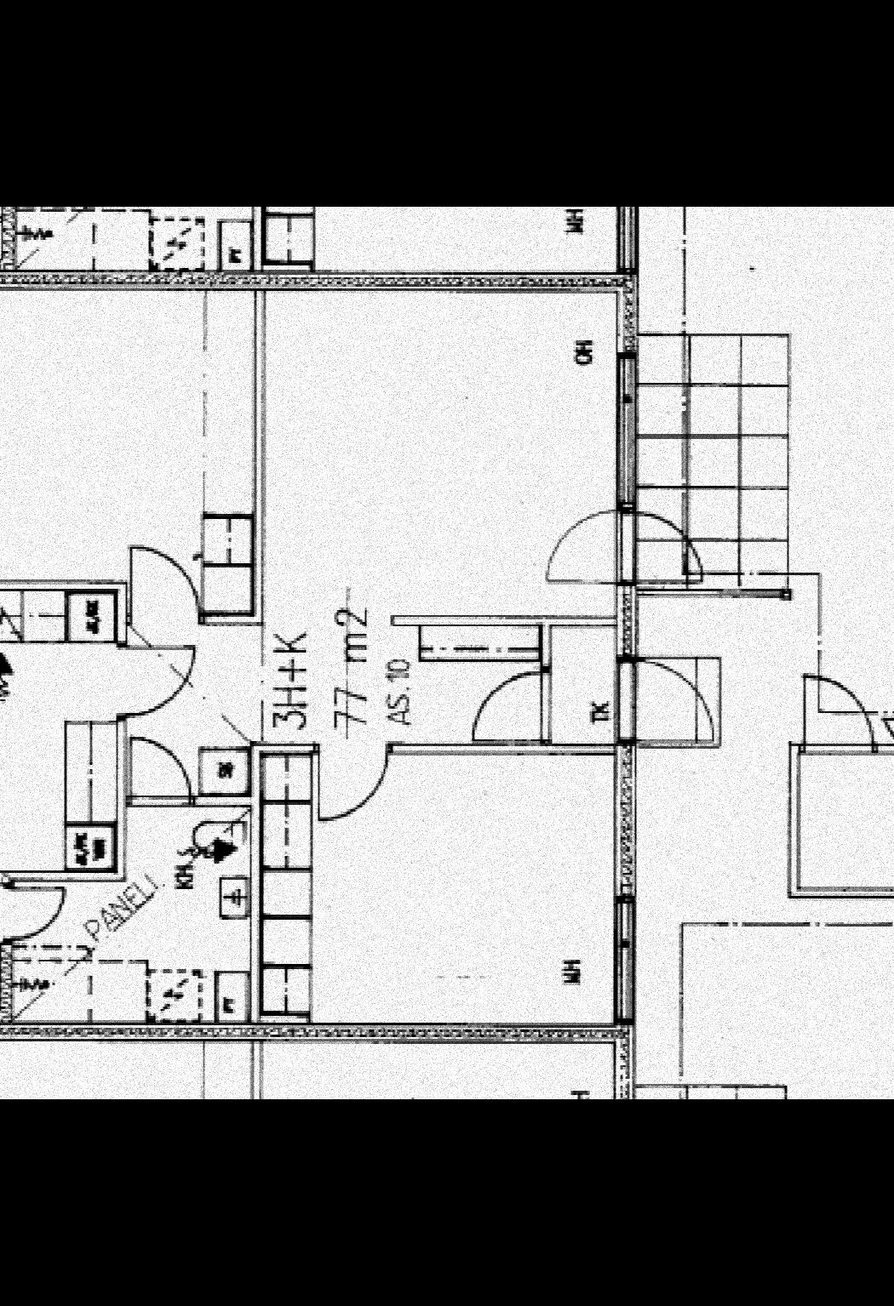door: (543, 510, 700, 588), (619, 656, 726, 743), (117, 645, 200, 719), (128, 552, 202, 634), (470, 672, 549, 747), (314, 746, 388, 825), (805, 672, 874, 754), (130, 736, 189, 806), (3, 881, 64, 944)
window: (615, 354, 639, 500), (610, 898, 636, 1022)
zone: (258, 294, 611, 744), (0, 289, 249, 806), (252, 755, 607, 1023), (0, 809, 245, 1012), (0, 597, 112, 872), (789, 754, 894, 896)
